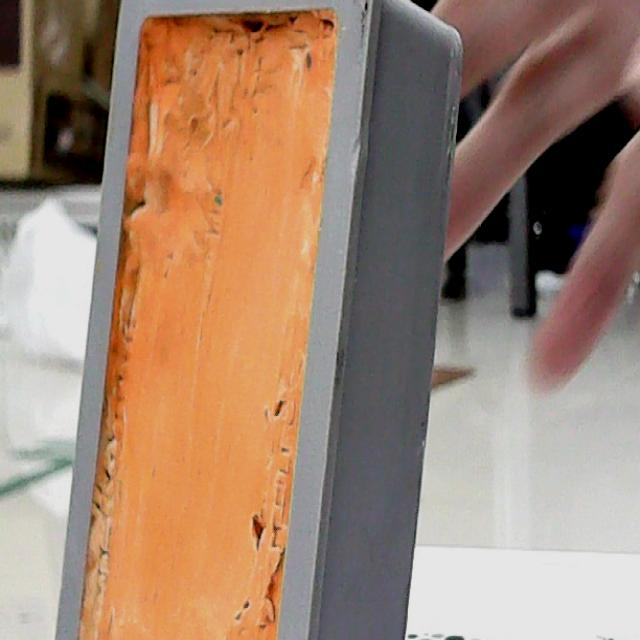block: (40, 0, 479, 640)
